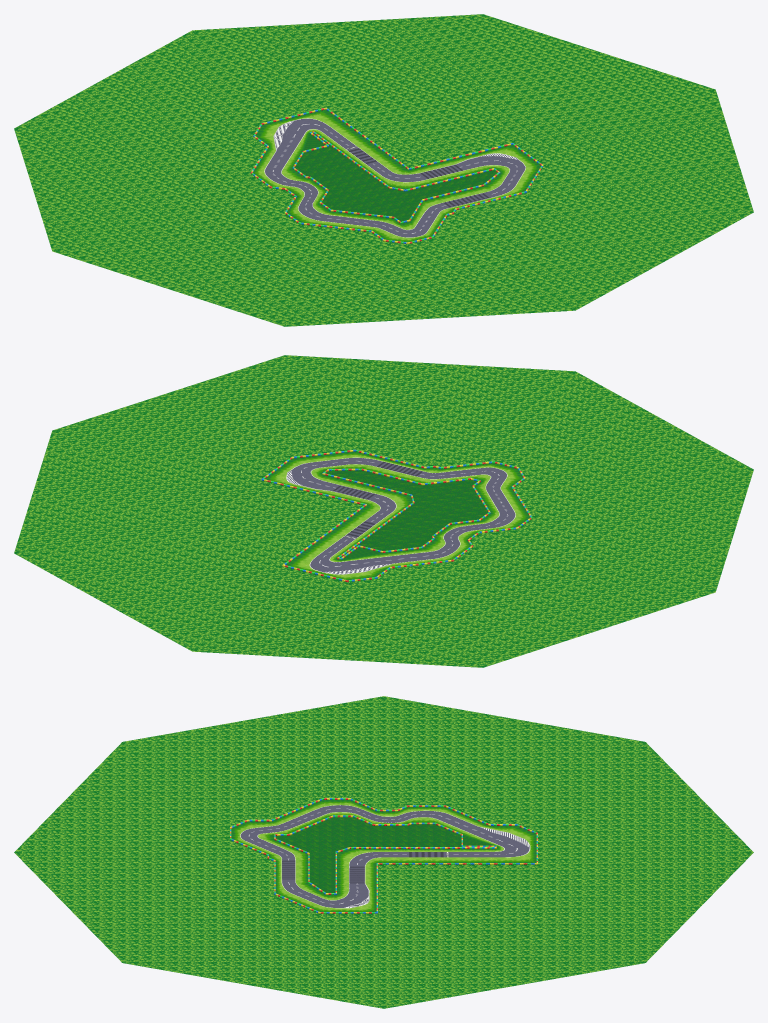
Rendered from old_peach_agb.glb.
The picture shows the model from 3 angles, top to bottom: view 1: azimuth 30°, elevation 25°; view 2: azimuth 150°, elevation 25°; view 3: azimuth 270°, elevation 25°; orthographic projection. The views are drawn at different scales.
Visible parts, largest first — view 1: old_peach_agb; view 2: old_peach_agb; view 3: old_peach_agb.
Part boxes in pixels (bbox=[...]): old_peach_agb: bbox=[14, 14, 753, 326]; old_peach_agb: bbox=[14, 355, 753, 667]; old_peach_agb: bbox=[14, 696, 753, 1008].
Size of the model in its own units: 679 by 1.88 by 679.
Materials: 9 (9 with a texture image).
